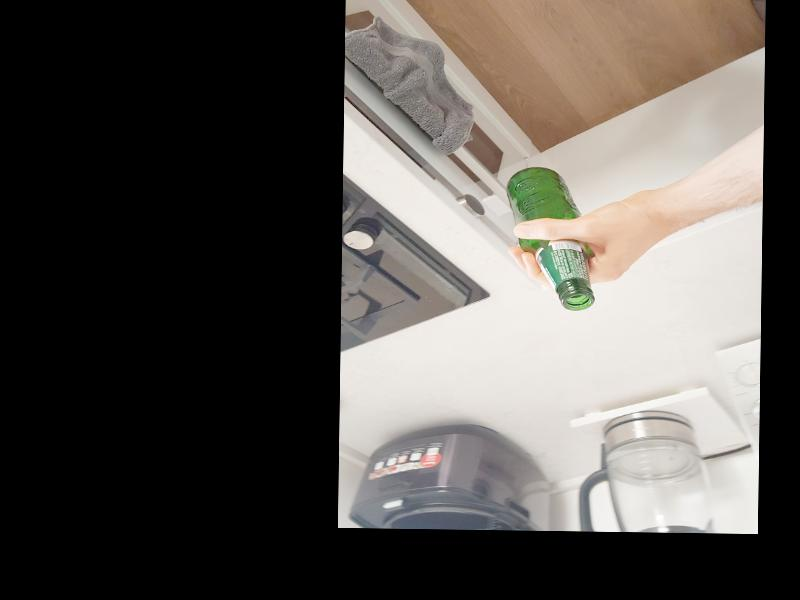Beer: (504, 165, 596, 310)
